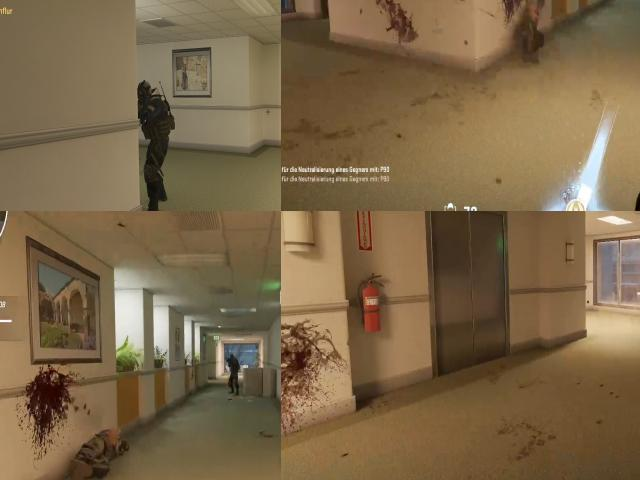CT: (139, 78, 169, 210), (226, 352, 242, 377)
CT-Head: (140, 80, 151, 101), (228, 354, 235, 363)
Dead: (76, 428, 130, 476), (508, 0, 552, 51)
